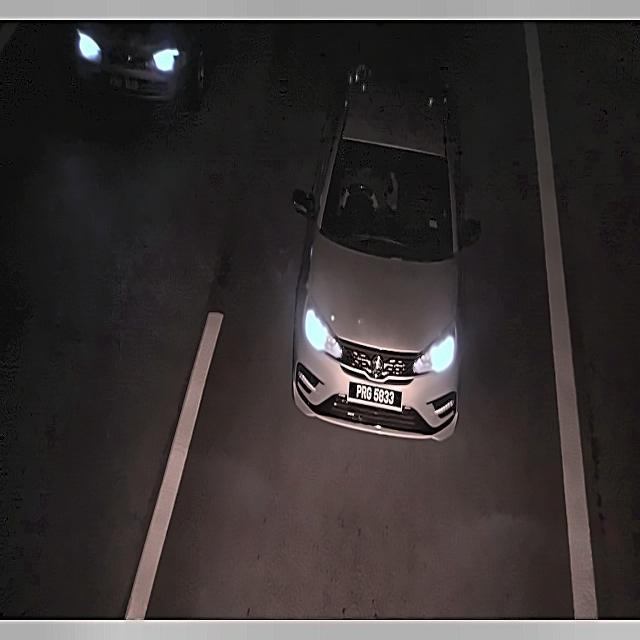car: (347, 374, 406, 417), (105, 64, 144, 98)
